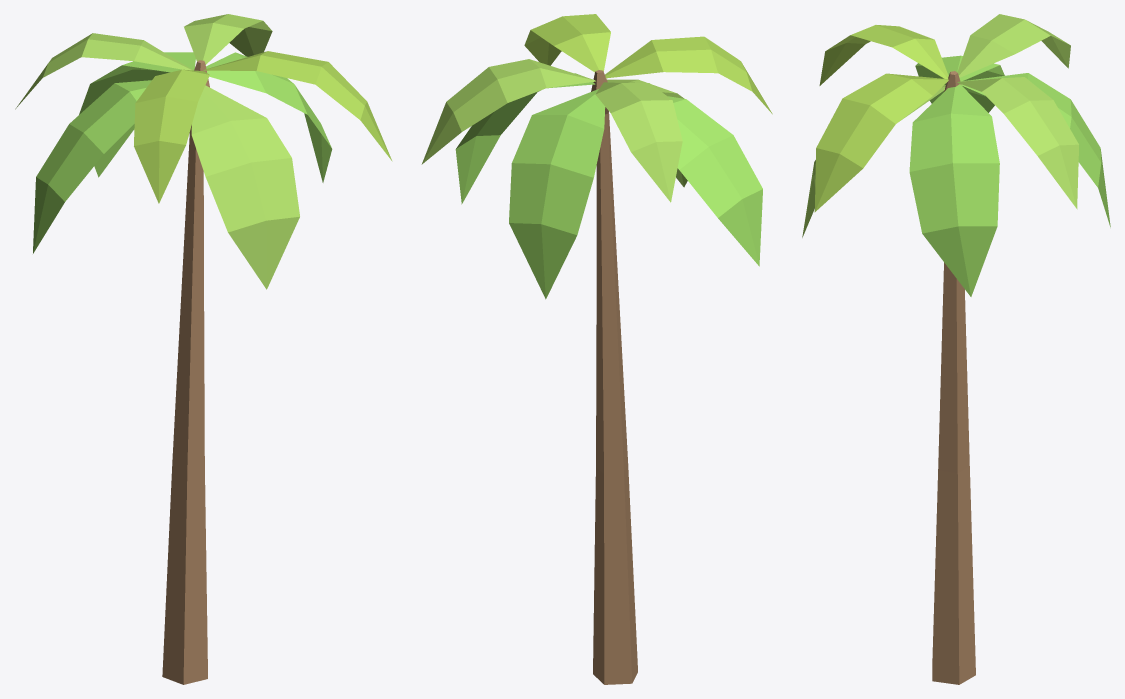
Rendered from Palm_Tree_OneSided_m_01_LOD.fbx.
3 renders of one model, left to right at view 1: azimuth 30°, elevation 25°; view 2: azimuth 150°, elevation 25°; view 3: azimuth 270°, elevation 25°, orthographic.
Visible parts, largest first — view 1: Palm_Tree_OneSided_m_01_LOD0; view 2: Palm_Tree_OneSided_m_01_LOD0; view 3: Palm_Tree_OneSided_m_01_LOD0.
Part boxes in pixels (box(x1,y1,x2,y2)): Palm_Tree_OneSided_m_01_LOD0: box(15, 14, 392, 684); Palm_Tree_OneSided_m_01_LOD0: box(421, 14, 772, 684); Palm_Tree_OneSided_m_01_LOD0: box(802, 14, 1110, 684).
Size of what is drawn, in the model's own units: 298 by 601 by 269.
